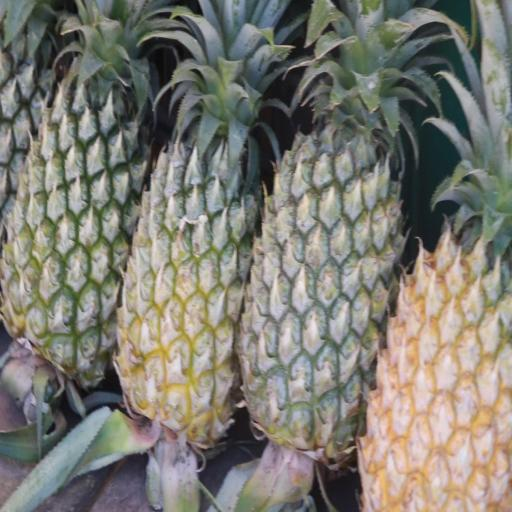------------------------------: (113, 0, 261, 454)
Pineapple - v8 v1: (354, 136, 512, 512)
